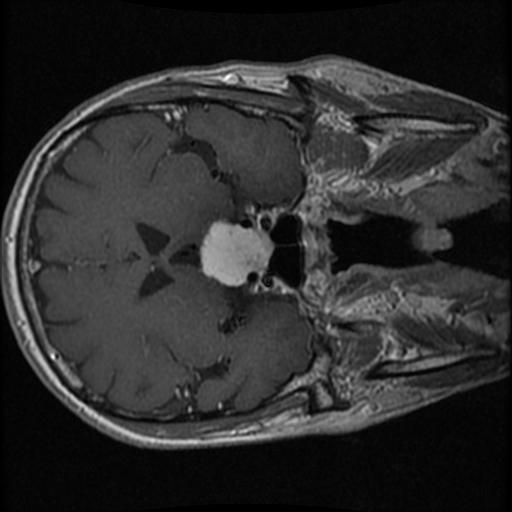meningioma: (199, 219, 272, 285)
